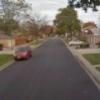cars: (14, 47, 32, 62)
